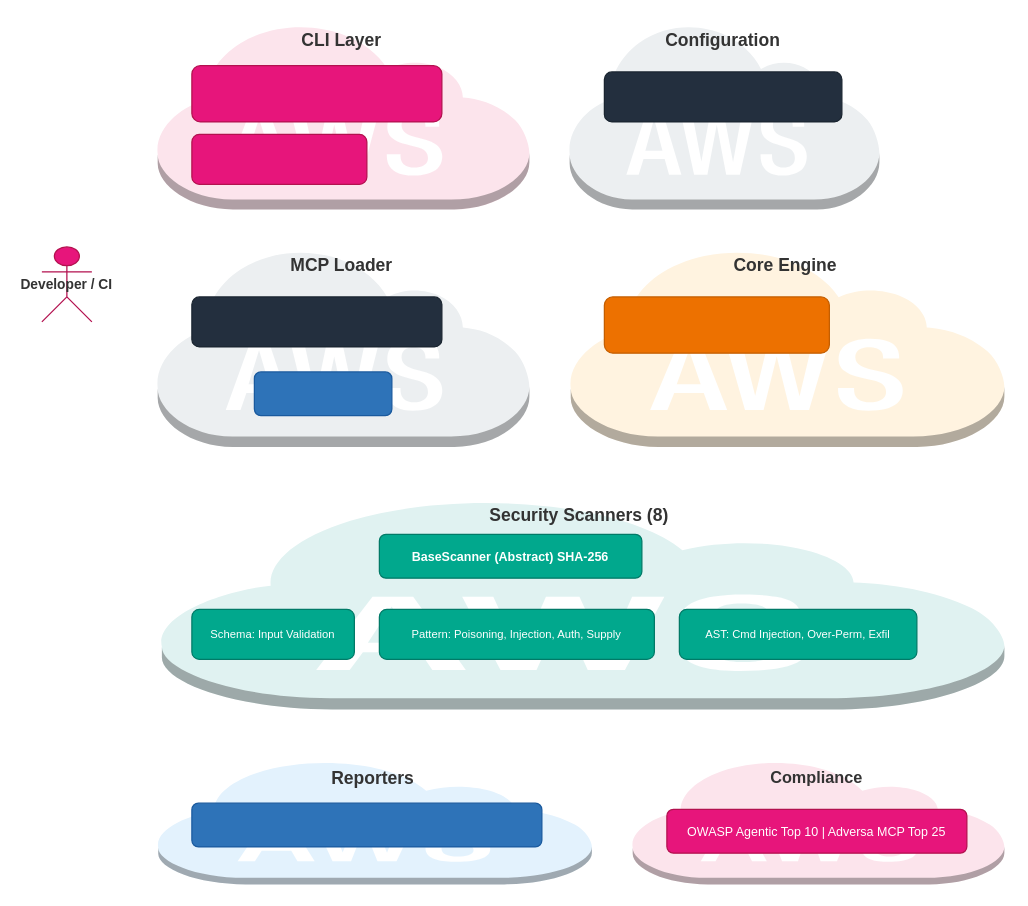
Some shapes in this 1028 by 906 pixel diagram are drawn without their labels. The shapes that lost their labels are listed below. From the top down, each one's centre as x and y in pixels, then its label:
At (316,93): "Commander.js CLI (scan/report)".
At (722,96): "Config Loader (.shieldagentrc.json)".
At (279,158): "Zod v4 Validation".
At (316,321): "FS Walker + Tool Extractor".
At (716,324): "ScanEngine + Registry".
At (322,393): "ScanTarget".
At (366,824): "Table | JSON | SARIF v2.1.0".
